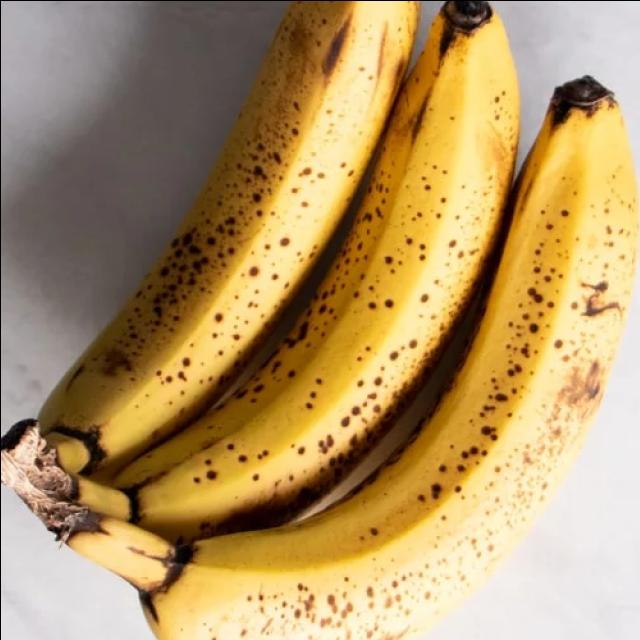banana: (62, 67, 640, 640), (64, 0, 515, 530), (29, 0, 421, 476)
